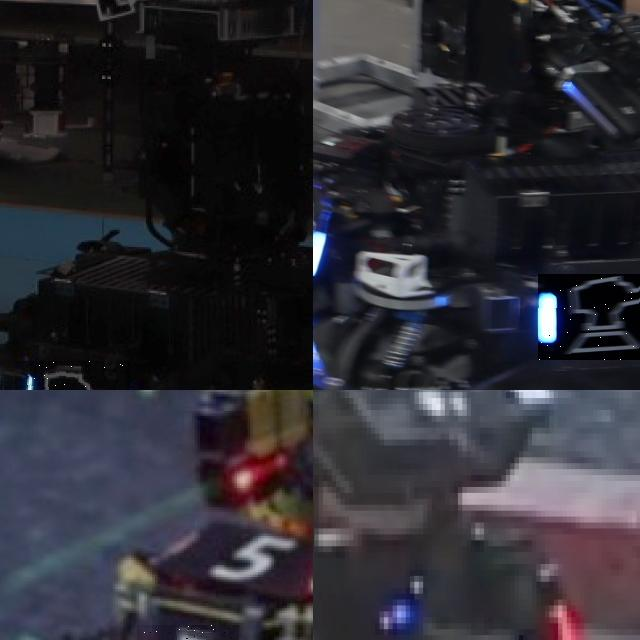Bs: (538, 274, 640, 360), (14, 360, 130, 390), (313, 184, 333, 280)
R5: (157, 519, 313, 596)
